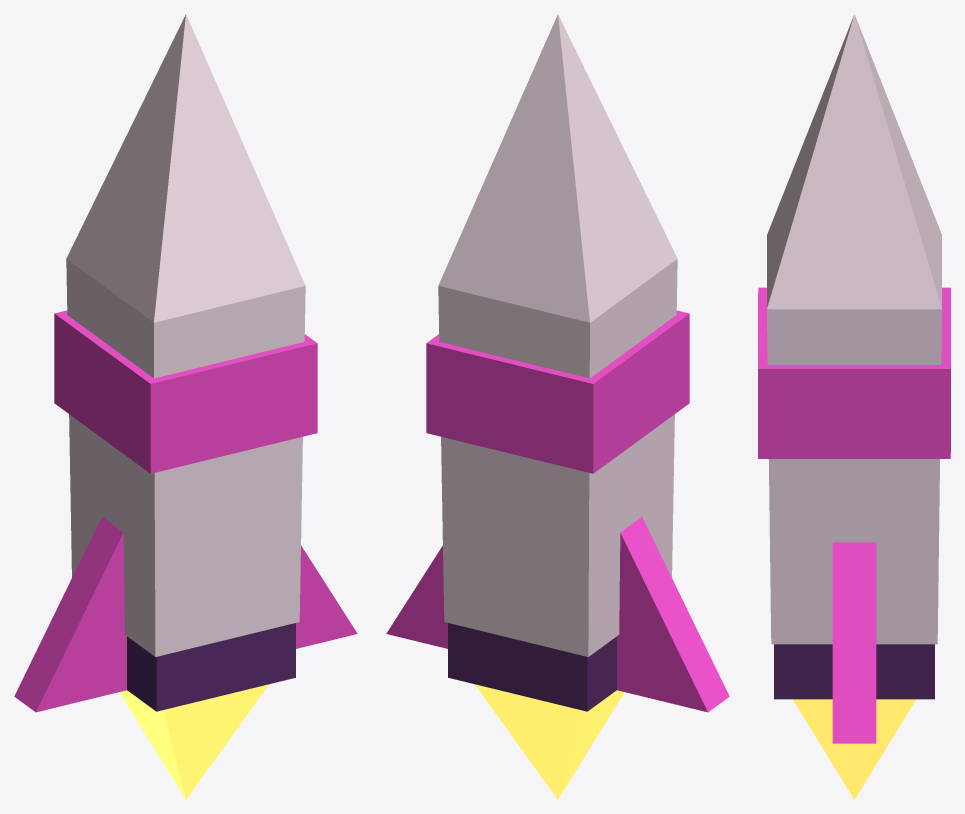
File: missile.glb
3 views of the same model, side by side, from view 1: azimuth 30°, elevation 25°; view 2: azimuth 150°, elevation 25°; view 3: azimuth 270°, elevation 25° (orthographic).
Visible parts, largest first — view 1: body, fins, exhaust; view 2: body, fins, exhaust; view 3: body, fins, exhaust.
Part boxes in pixels (<box>): body: <box>54,14,317,711</box>; fins: <box>14,517,357,712</box>; exhaust: <box>119,684,268,799</box>; body: <box>426,14,689,711</box>; fins: <box>386,517,729,712</box>; exhaust: <box>475,684,624,799</box>; body: <box>758,14,950,699</box>; fins: <box>832,542,876,743</box>; exhaust: <box>793,699,915,799</box>.
Bounding box in the file's own units: 3 × 7 × 1.56.
